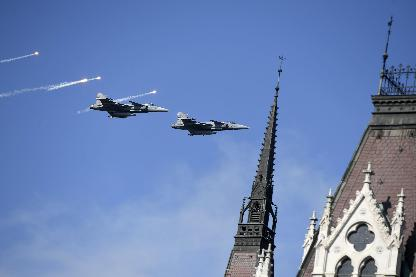JAS39: (90, 92, 174, 118), (171, 112, 254, 136)
